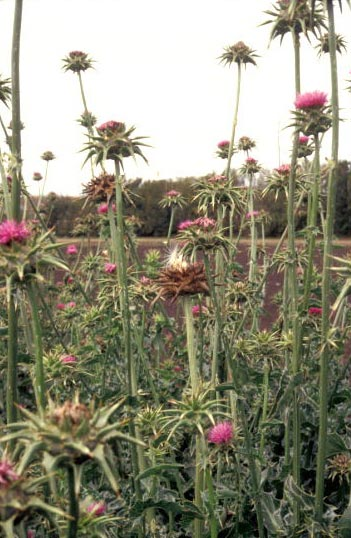thistle: (1, 220, 58, 295), (87, 120, 145, 166), (286, 93, 338, 140), (179, 218, 231, 261), (267, 163, 309, 202), (208, 419, 249, 454), (221, 39, 257, 75), (158, 189, 187, 211), (240, 155, 260, 181), (211, 139, 236, 159)
